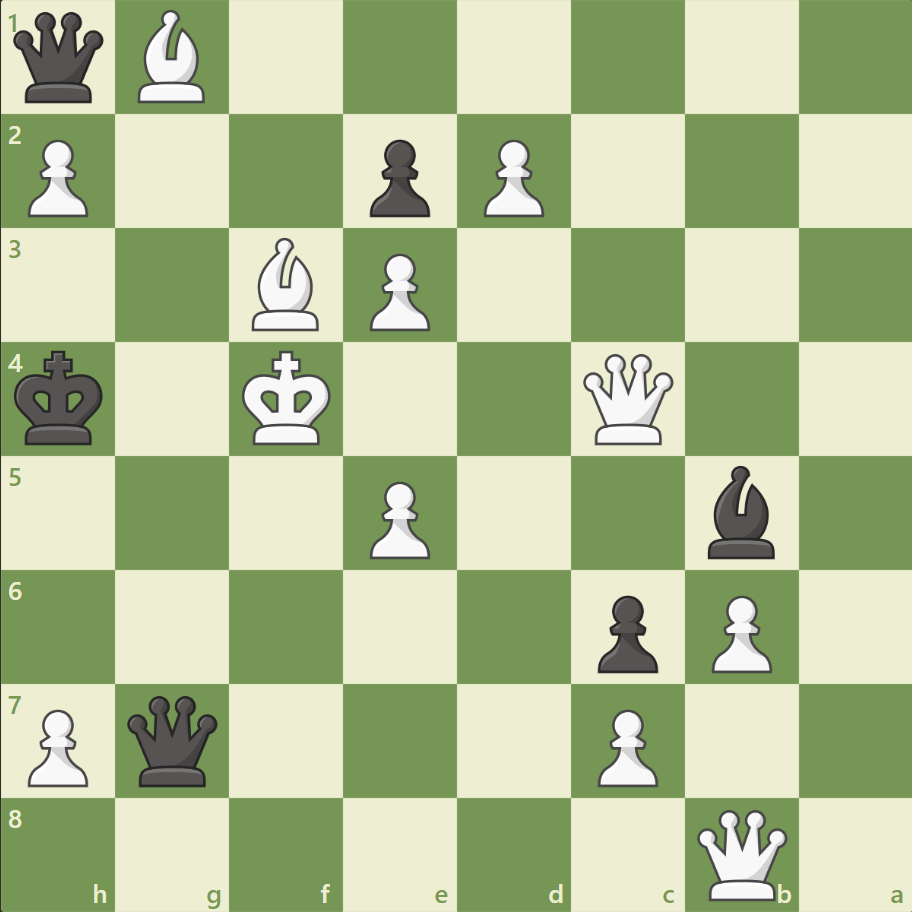B: (244, 233, 328, 336), (131, 6, 215, 109)
K: (238, 344, 338, 452)
P: (20, 700, 95, 791), (701, 586, 776, 677), (474, 132, 549, 223), (20, 132, 95, 223), (588, 700, 662, 791), (361, 473, 435, 564), (361, 246, 435, 337)
Q: (578, 349, 677, 449), (691, 804, 790, 903)
b: (698, 460, 782, 563)
k: (11, 344, 111, 452)
p: (588, 586, 662, 677), (361, 132, 435, 223)
q: (124, 690, 223, 789), (10, 9, 109, 108)
